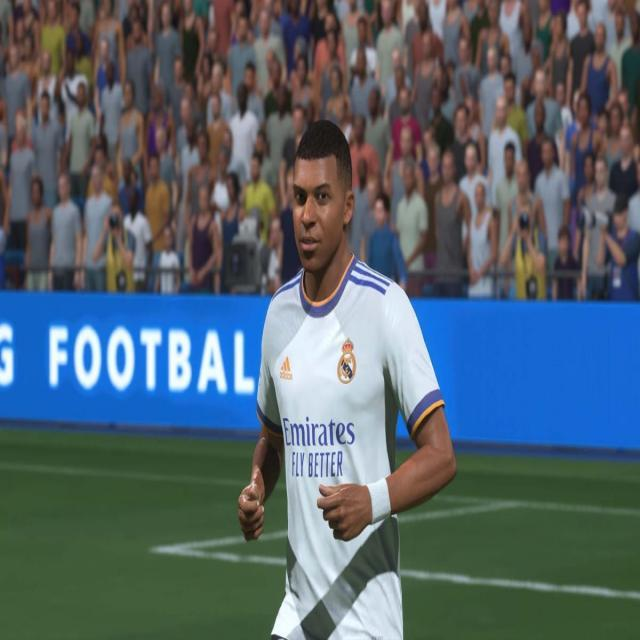Adidas: (279, 356, 292, 381)
Emirates: (283, 415, 355, 446)
